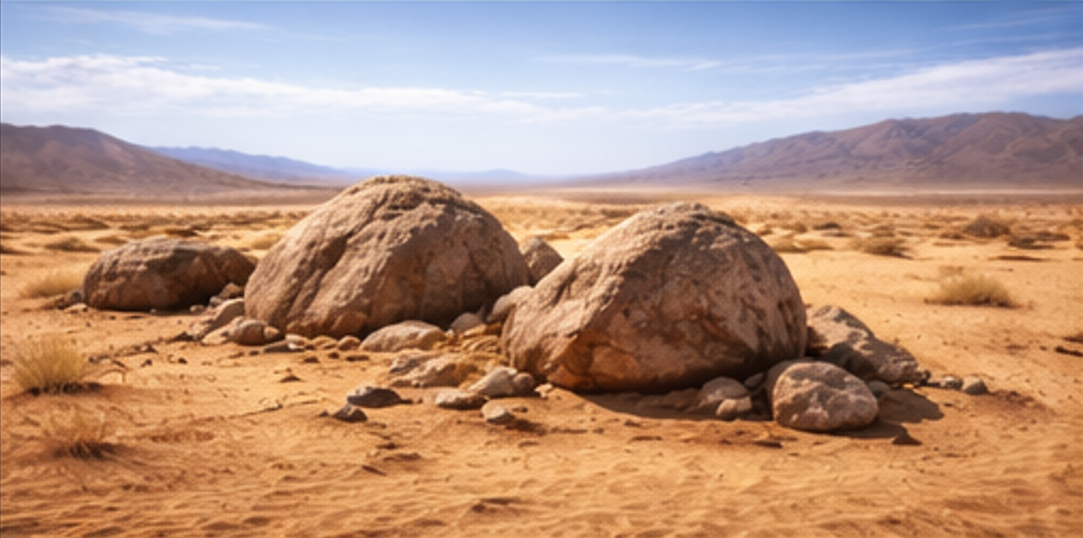rocks: (502, 202, 806, 391), (246, 176, 527, 336), (83, 238, 252, 310), (808, 305, 927, 383), (768, 360, 877, 431), (359, 320, 445, 351), (467, 367, 533, 397), (520, 236, 562, 283), (695, 376, 747, 410), (345, 384, 407, 407), (434, 391, 484, 408)
